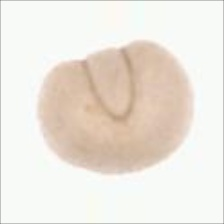L5: (81, 43, 141, 124), (91, 145, 178, 176)
L6: (38, 35, 198, 178)
